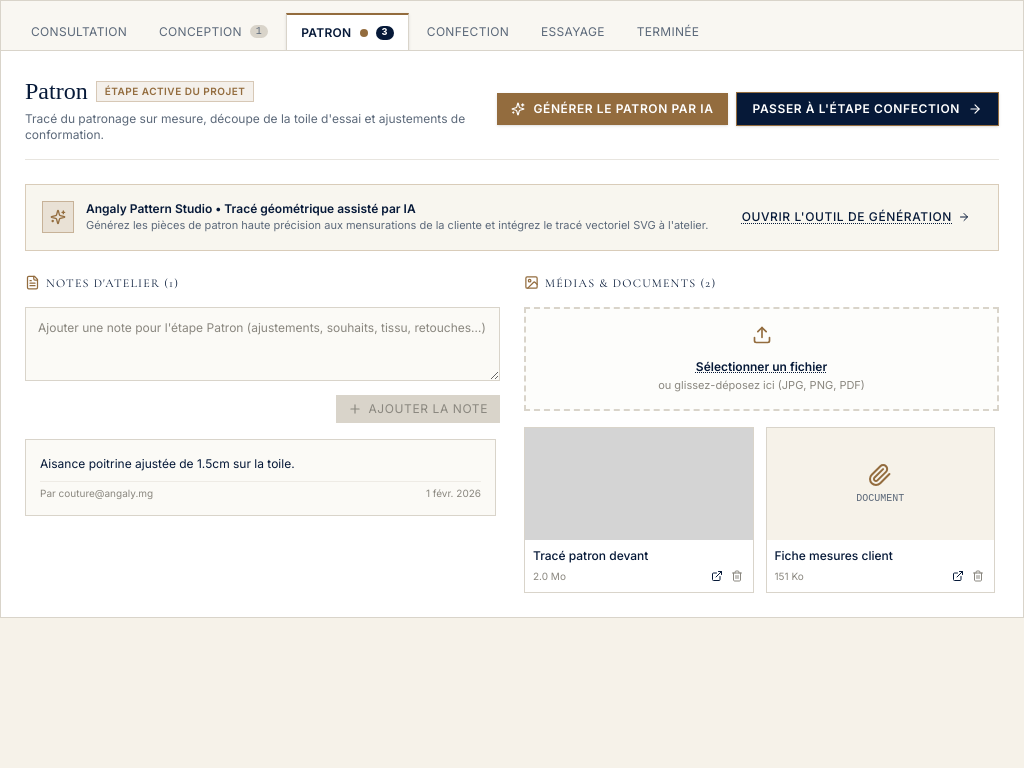
it: CreationProjectStageWorkspace › displays "Générer le patron par IA" button when on PATRON stage and opens the AI pattern modal
The width and height of the screenshot is (1024, 768).
Step 1. Click the button "Générer le patron par IA" → (612, 109), box left=498, top=93, right=728, bottom=125
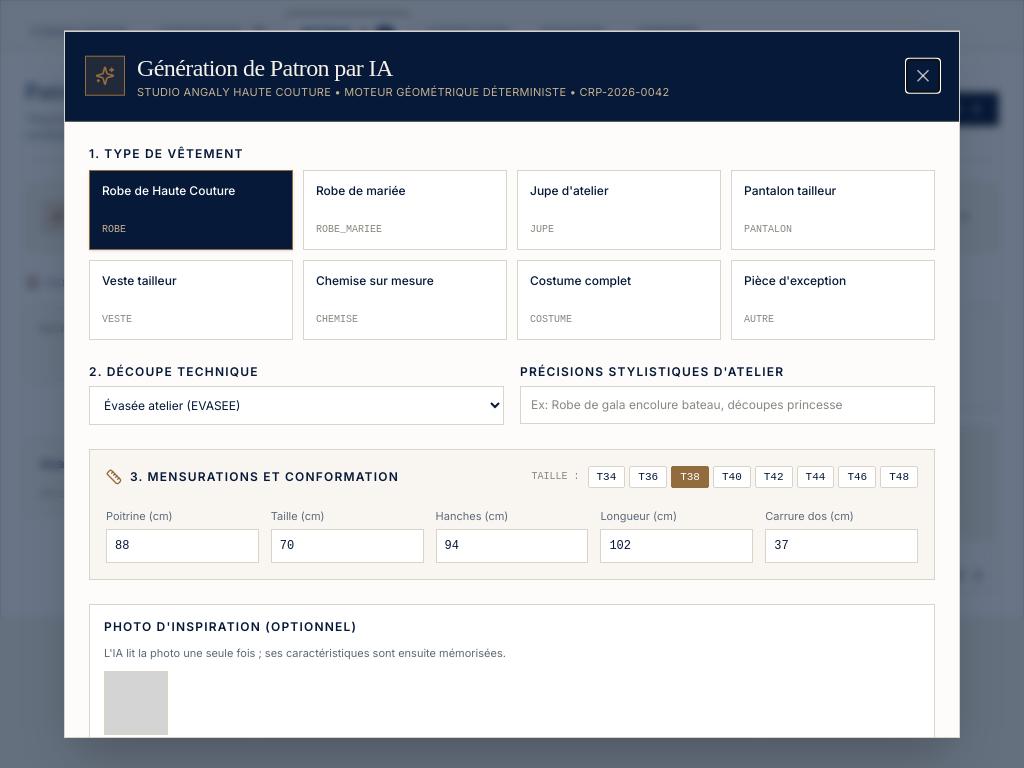
Result: the heading "Génération de Patron par IA" is shown at left=137, top=55, right=393, bottom=81
Result: the text "CRP-2026-0042" is shown at left=566, top=85, right=669, bottom=99
